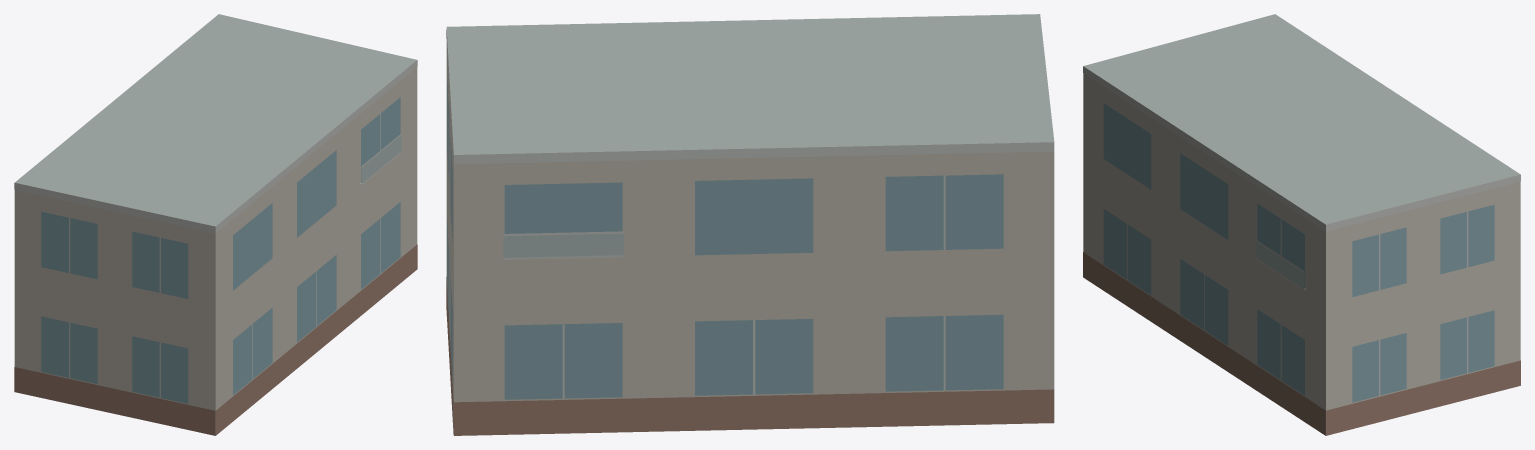
The model's file is survey-upis-32989935.glb.
3 renders of one model, left to right at view 1: azimuth 30°, elevation 25°; view 2: azimuth 150°, elevation 25°; view 3: azimuth 270°, elevation 25°, orthographic. The views are drawn at different scales.
Visible parts, largest first — view 1: survey-upis-32989935.tmp; view 2: survey-upis-32989935.tmp; view 3: survey-upis-32989935.tmp.
Part boxes in pixels (bbox=[...]): survey-upis-32989935.tmp: bbox=[14, 14, 417, 435]; survey-upis-32989935.tmp: bbox=[446, 14, 1054, 435]; survey-upis-32989935.tmp: bbox=[1083, 14, 1520, 435].
Size of the model in its own units: 15.84 by 7.4 by 13.91.
